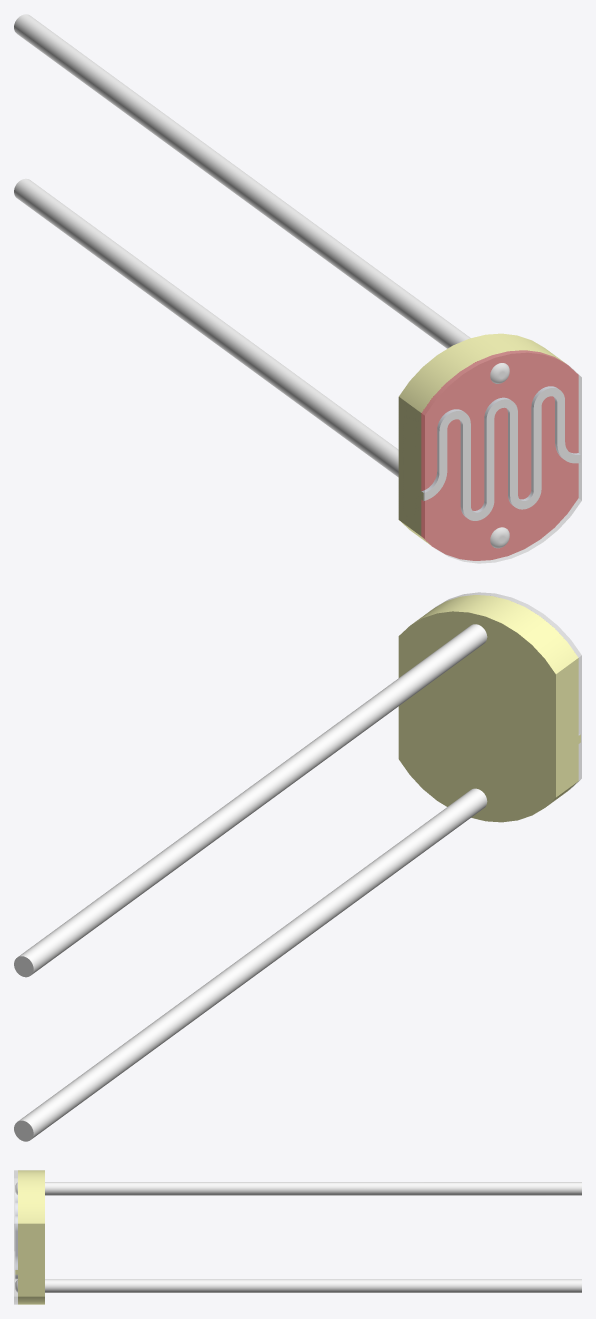
Rendered from ldr.glb.
3 renders of one model, top to bottom at view 1: azimuth 30°, elevation 25°; view 2: azimuth 150°, elevation 25°; view 3: azimuth 270°, elevation 25°, orthographic. The views are drawn at different scales.
Visible parts, largest first — view 1: Mesh (×2); view 2: Mesh (×2); view 3: Mesh (×2).
Part boxes in pixels (<box>): Mesh (×2): <box>14,14,581,563</box>; Mesh (×2): <box>14,592,581,1141</box>; Mesh (×2): <box>14,1170,581,1304</box>.
Bounding box in the file's own units: 0.004 × 0.00498 × 0.0211.
